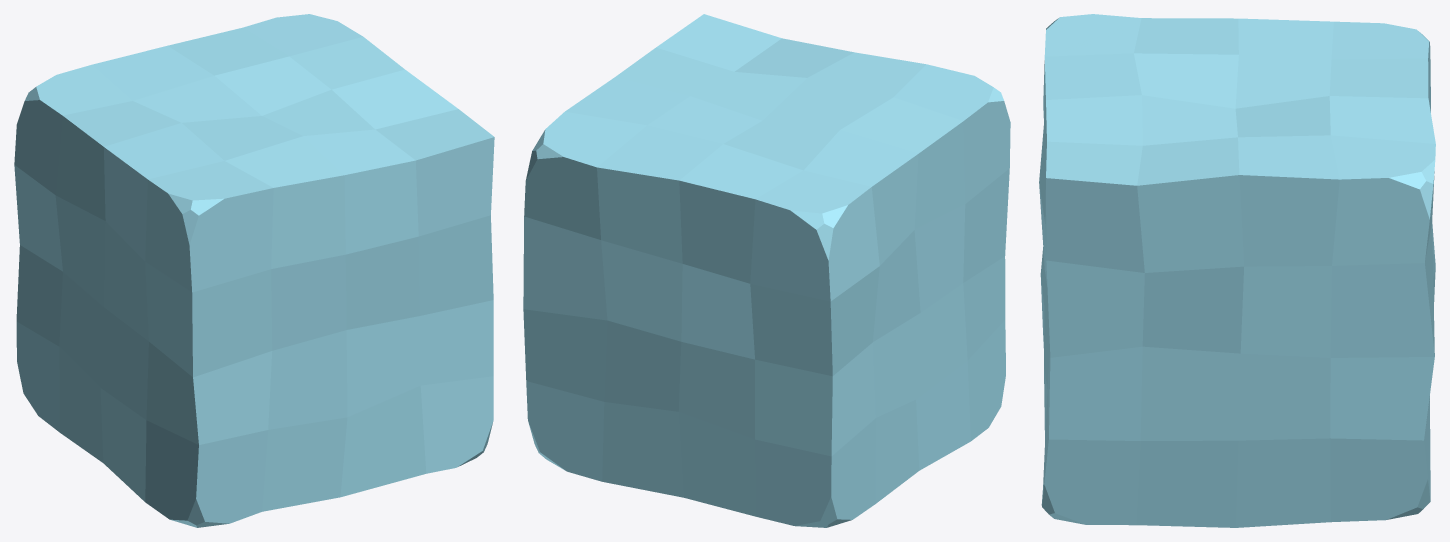
The model's file is hielito 1.fbx.
3 renders of one model, left to right at view 1: azimuth 30°, elevation 25°; view 2: azimuth 150°, elevation 25°; view 3: azimuth 270°, elevation 25°, orthographic. The views are drawn at different scales.
Visible parts, largest first — view 1: hielito; view 2: hielito; view 3: hielito.
Part boxes in pixels (x1,y1,x2,y2): hielito: [14, 14, 494, 527]; hielito: [523, 14, 1010, 527]; hielito: [1039, 14, 1435, 527].
Bounding box in the file's own units: 2 × 1.99 × 2.
